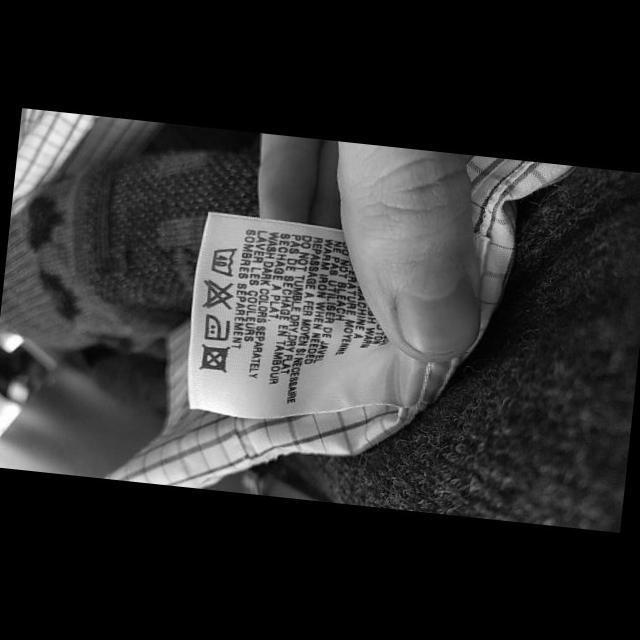40C: (208, 242, 240, 279)
DN_bleach: (198, 276, 236, 312)
DN_tumble_dry: (196, 340, 231, 374)
iron_medium: (199, 312, 234, 344)
